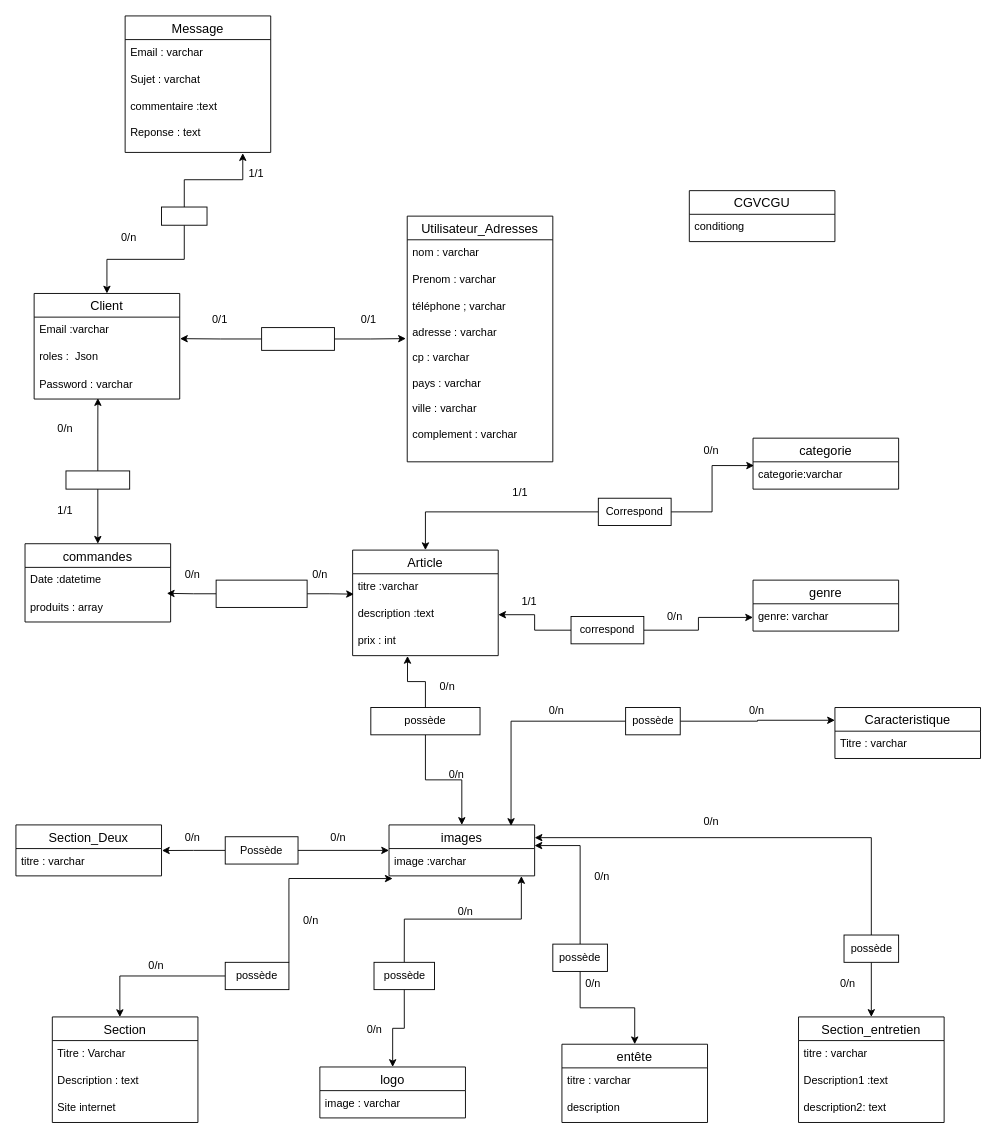
This 996x1141 diagram has some shape labels left out. The centre of each missing label's shape, as x and y in pixels:
"appartient" goes at point 297,338.
"contient" goes at point 261,593.
"Passer" goes at point 97,479.
"écrit" goes at point 184,215.
